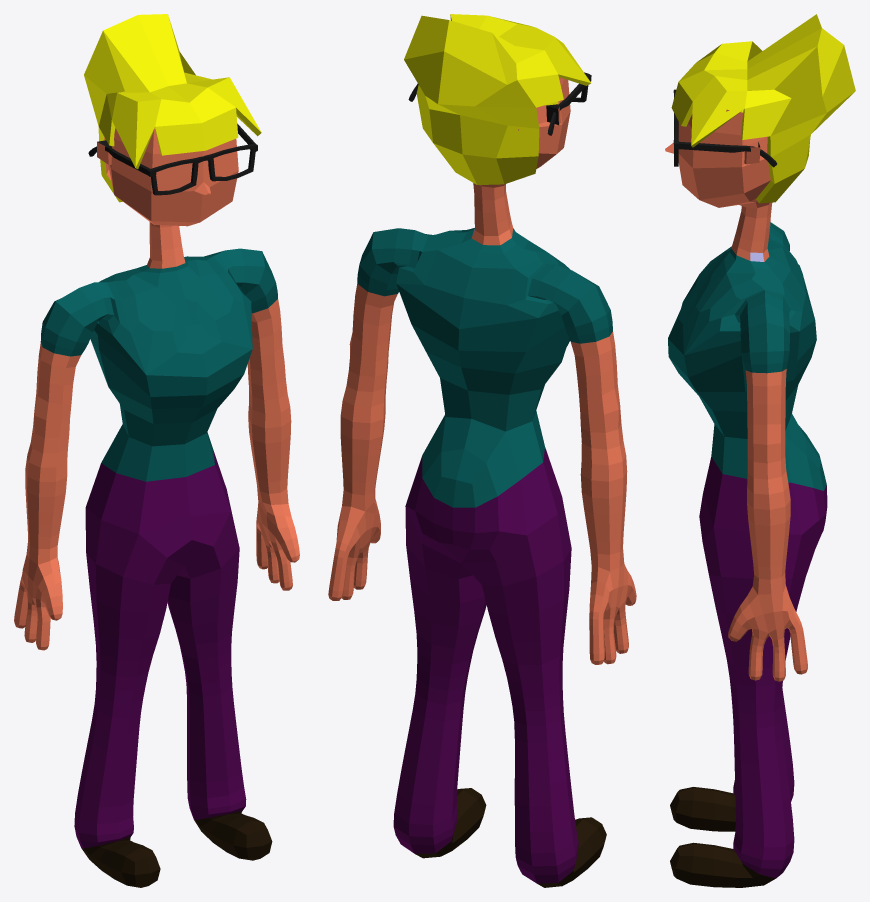
The model's file is npc8.fbx.
3 renders of one model, left to right at view 1: azimuth 30°, elevation 25°; view 2: azimuth 150°, elevation 25°; view 3: azimuth 270°, elevation 25°, orthographic. The views are drawn at different scales.
Visible parts, largest first — view 1: npc8; view 2: npc8; view 3: npc8.
Boxes of the visible parts, box(x1,y1,x2,y2) form: npc8: box(14, 14, 299, 887); npc8: box(328, 14, 636, 887); npc8: box(665, 14, 855, 887).
Size of the model in its own units: 108 by 323 by 67.
